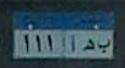1: (33, 32, 42, 54), (24, 34, 31, 55), (47, 33, 53, 53)
alif: (70, 33, 77, 54)
baa: (97, 37, 111, 55)
haa: (79, 35, 96, 54)
